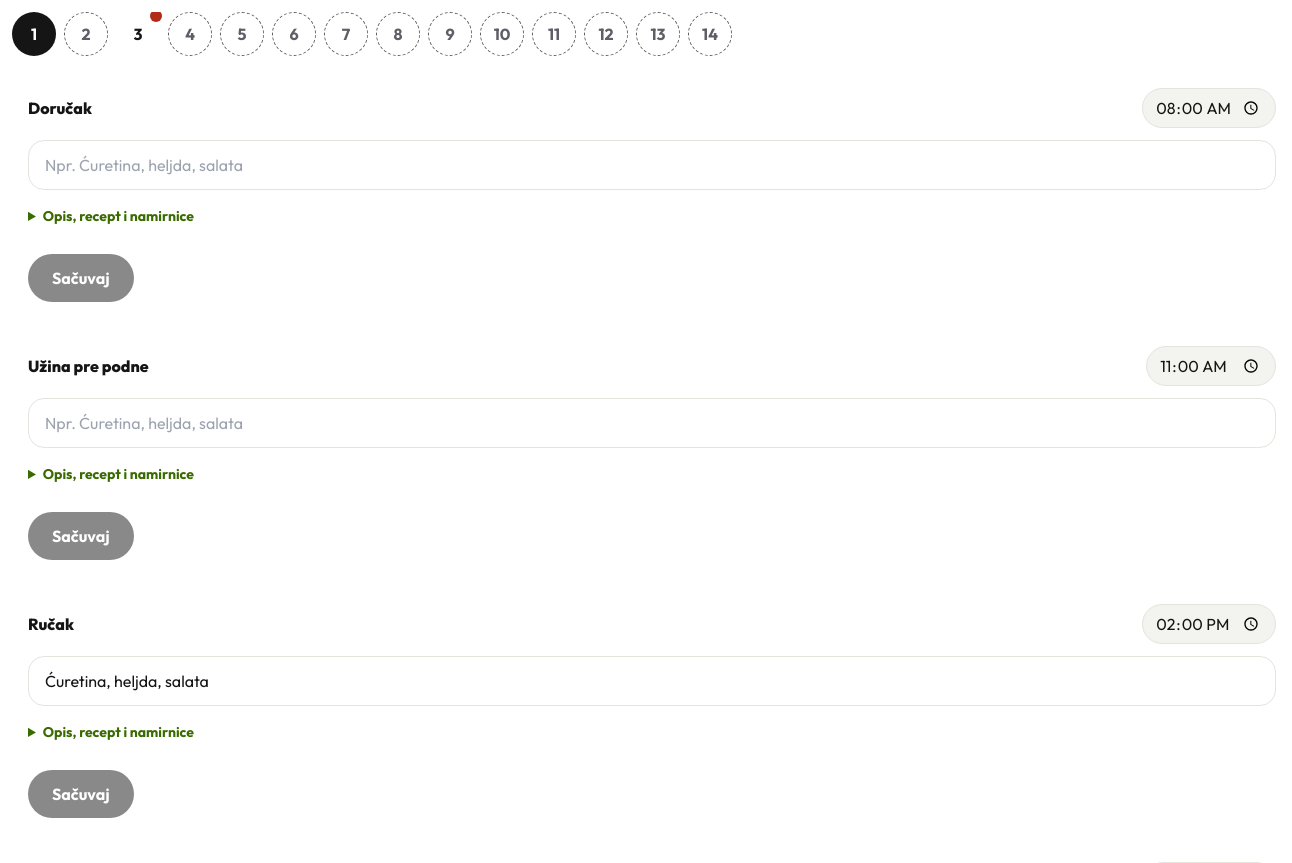
it: MealEditor › označava dan i obrok koji sadrže hranu koju klijent ne voli
The image size is (1292, 863).
expect the button named "Dan 1" is shown: met, box [12,12,56,56]
What coordinates should you click on to do the following:
click the button named "Dan 3"
I would click on:
 (138, 34)
Its box is [116,12,160,56].
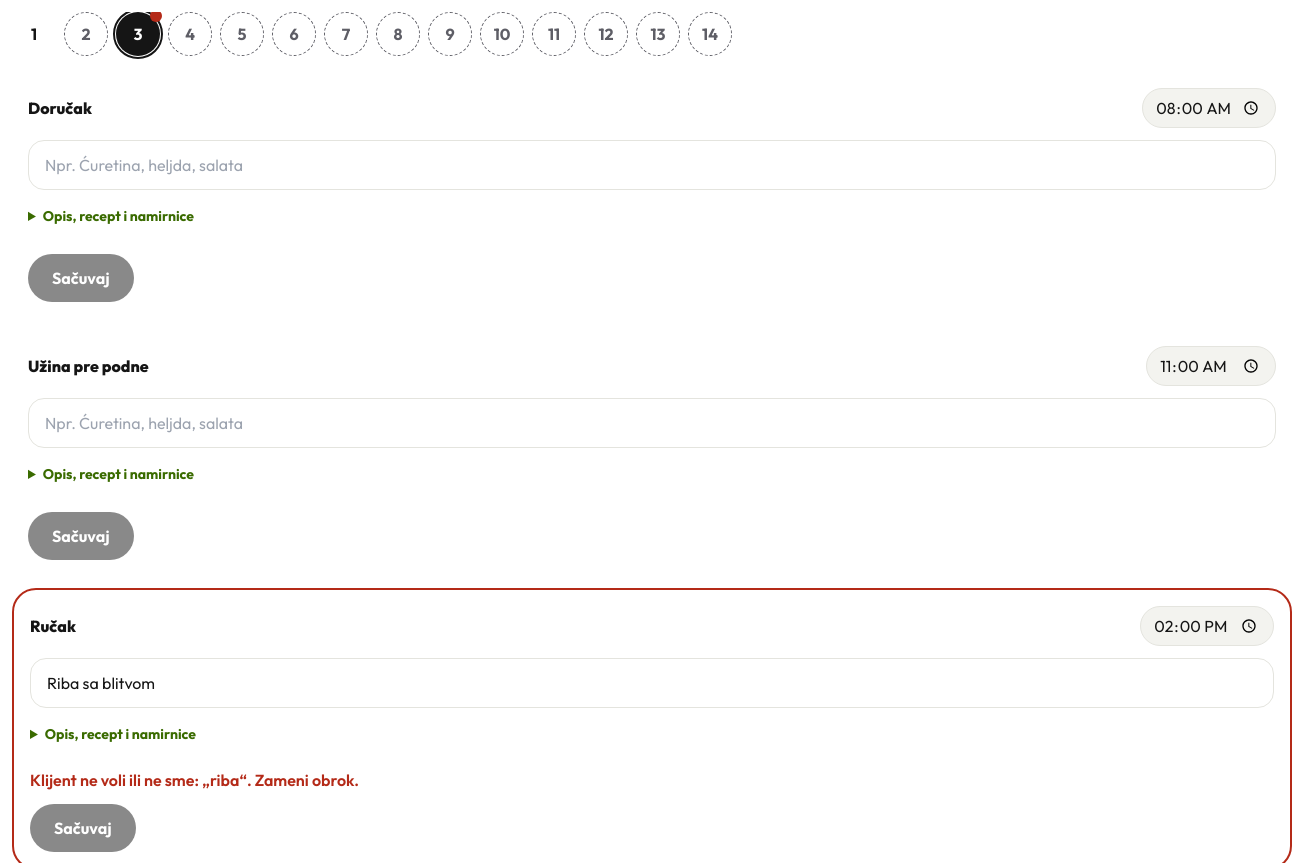
expect the text "Klijent ne voli ili ne sme: „riba“. Zameni obrok." is shown: met, box [30,770,359,790]
